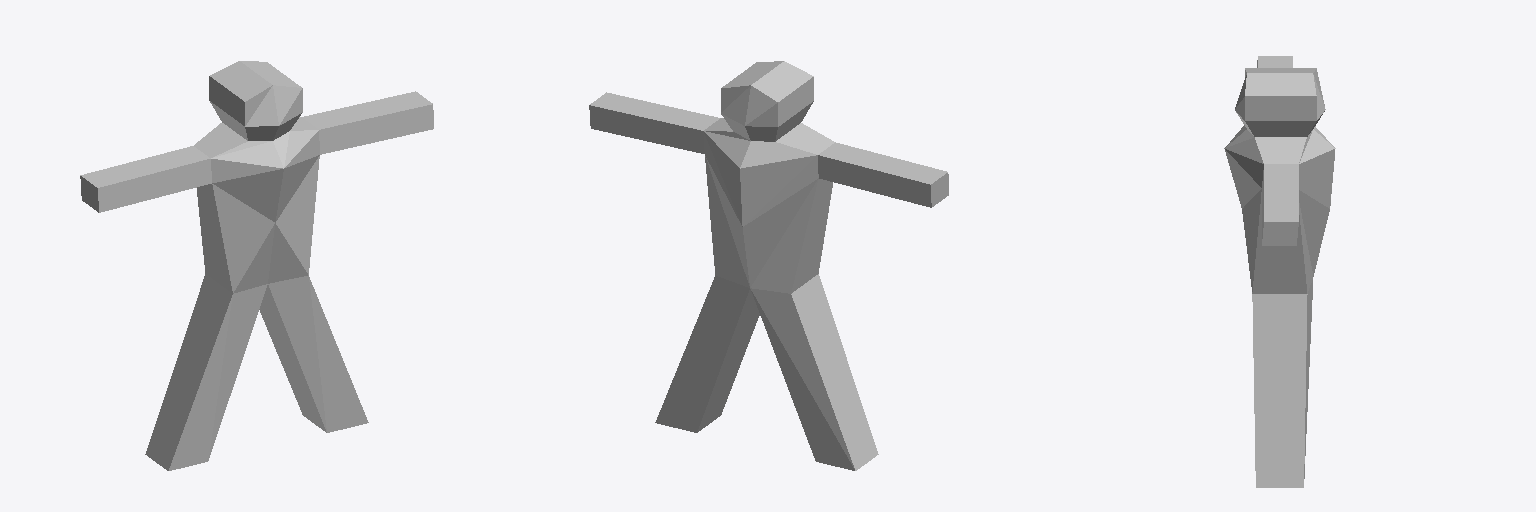
The model's file is humaniod base.obj.
3 views of the same model, side by side, from view 1: azimuth 30°, elevation 25°; view 2: azimuth 150°, elevation 25°; view 3: azimuth 270°, elevation 25° (orthographic).
Visible parts, largest first — view 1: Cube_Cube.001; view 2: Cube_Cube.001; view 3: Cube_Cube.001.
Boxes of the visible parts, x1,y1,x2,y2 form: Cube_Cube.001: [80, 61, 433, 470]; Cube_Cube.001: [589, 61, 948, 470]; Cube_Cube.001: [1224, 56, 1335, 487].
Size of the model in its own units: 8.94 by 9.22 by 2.54.